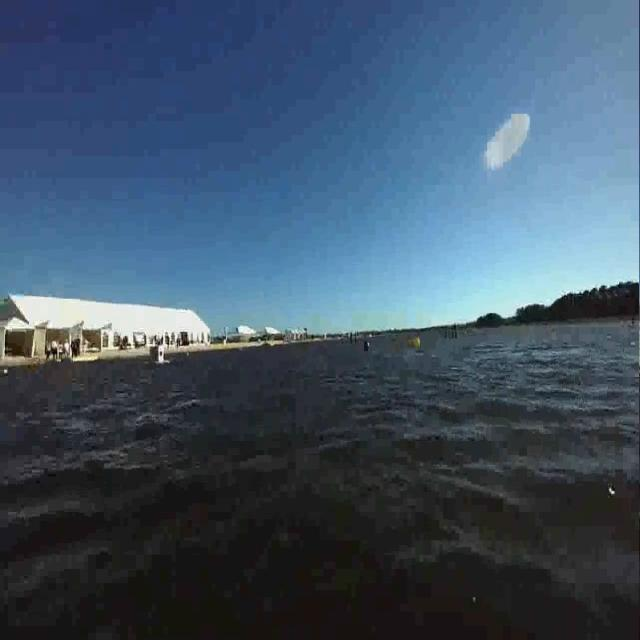blue-buoy: (363, 339, 370, 353)
yellow-buoy: (414, 336, 422, 351)
